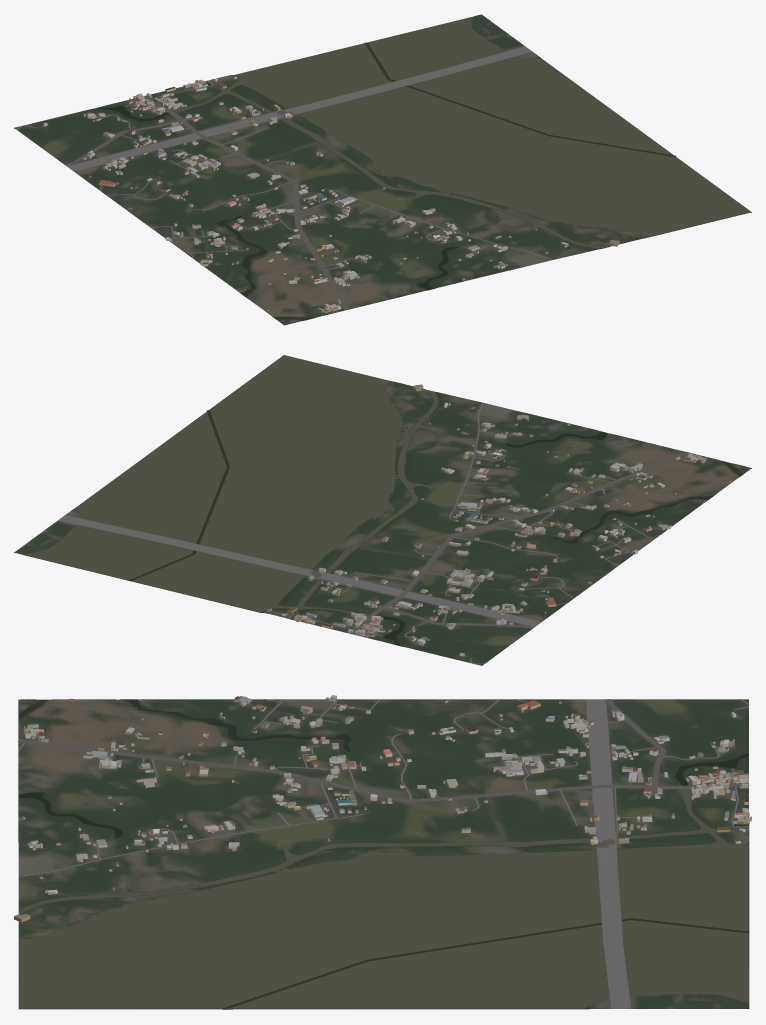
3 views of the same model, one above another, from view 1: azimuth 30°, elevation 25°; view 2: azimuth 150°, elevation 25°; view 3: azimuth 270°, elevation 25° (orthographic). The views are drawn at different scales.
Visible parts, largest first — view 1: ground, water, buildings, roads; view 2: ground, water, buildings, roads; view 3: ground, water, buildings, roads.
Part boxes in pixels (x1,y1,x2,y2): ground: (14, 14, 751, 325); water: (96, 17, 750, 319); buildings: (43, 75, 619, 312); roads: (16, 46, 549, 309); ground: (14, 355, 751, 665); water: (24, 355, 742, 645); buildings: (267, 384, 731, 656); roads: (58, 404, 705, 664); ground: (18, 699, 749, 1009); water: (19, 699, 749, 1009); buildings: (14, 695, 751, 922); roads: (17, 699, 749, 1008).
Size of the model in its own units: 1409 by 17.01 by 1414.
